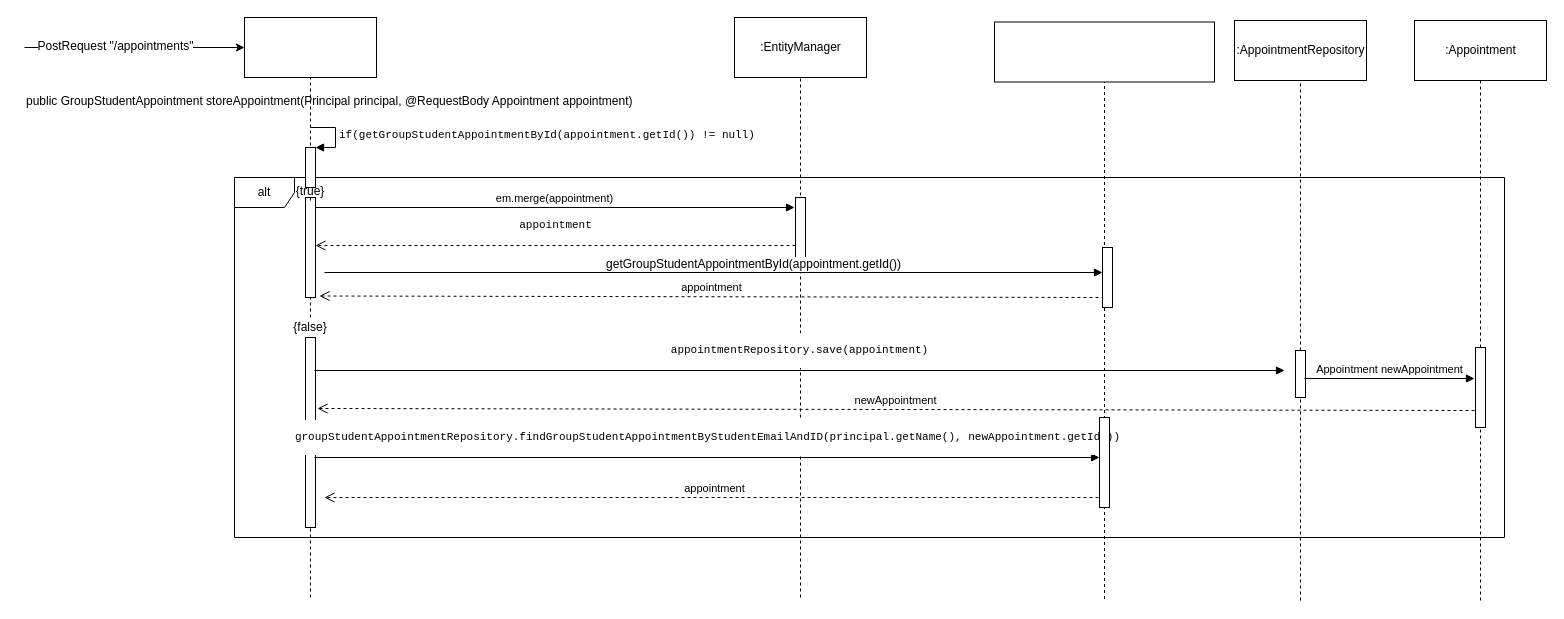
The diagram is 1564 pixels wide and 619 high, and some of its shapes have lost their labels. Here are the shapes that lost their labels. From the top down, the centre of each, then its label:
(310,47): :AppointmentController
(1104,51): :GroupStudentAppointmentRepository
